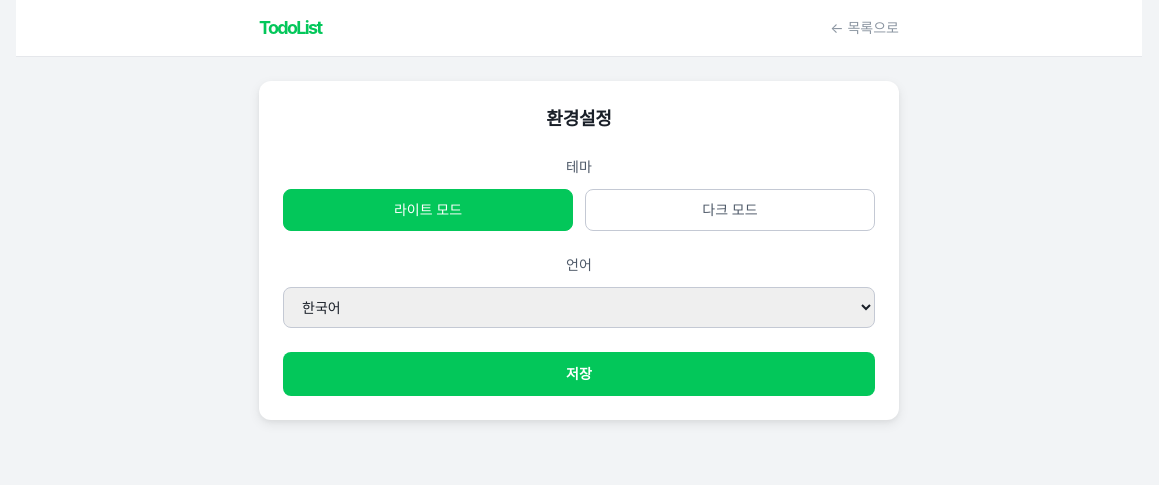
Test case: SettingsPage › 저장 성공 시 성공 메시지를 표시한다
The width and height of the screenshot is (1159, 485).
Click the button "저장": click(579, 374) x1=283 y1=352 x2=875 y2=396
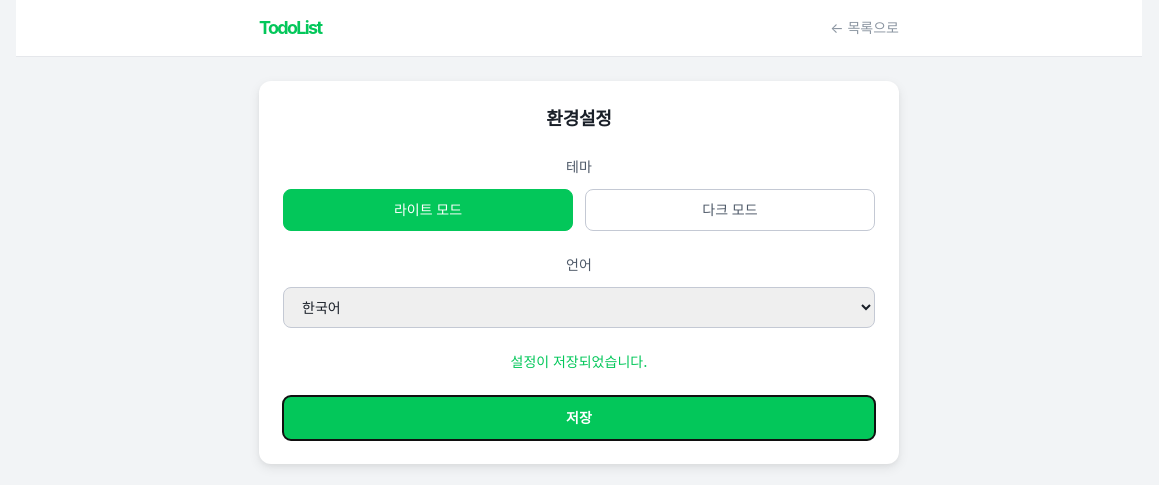
Expected: the text "설정이 저장되었습니다." is shown, x1=511 y1=353 x2=647 y2=370
